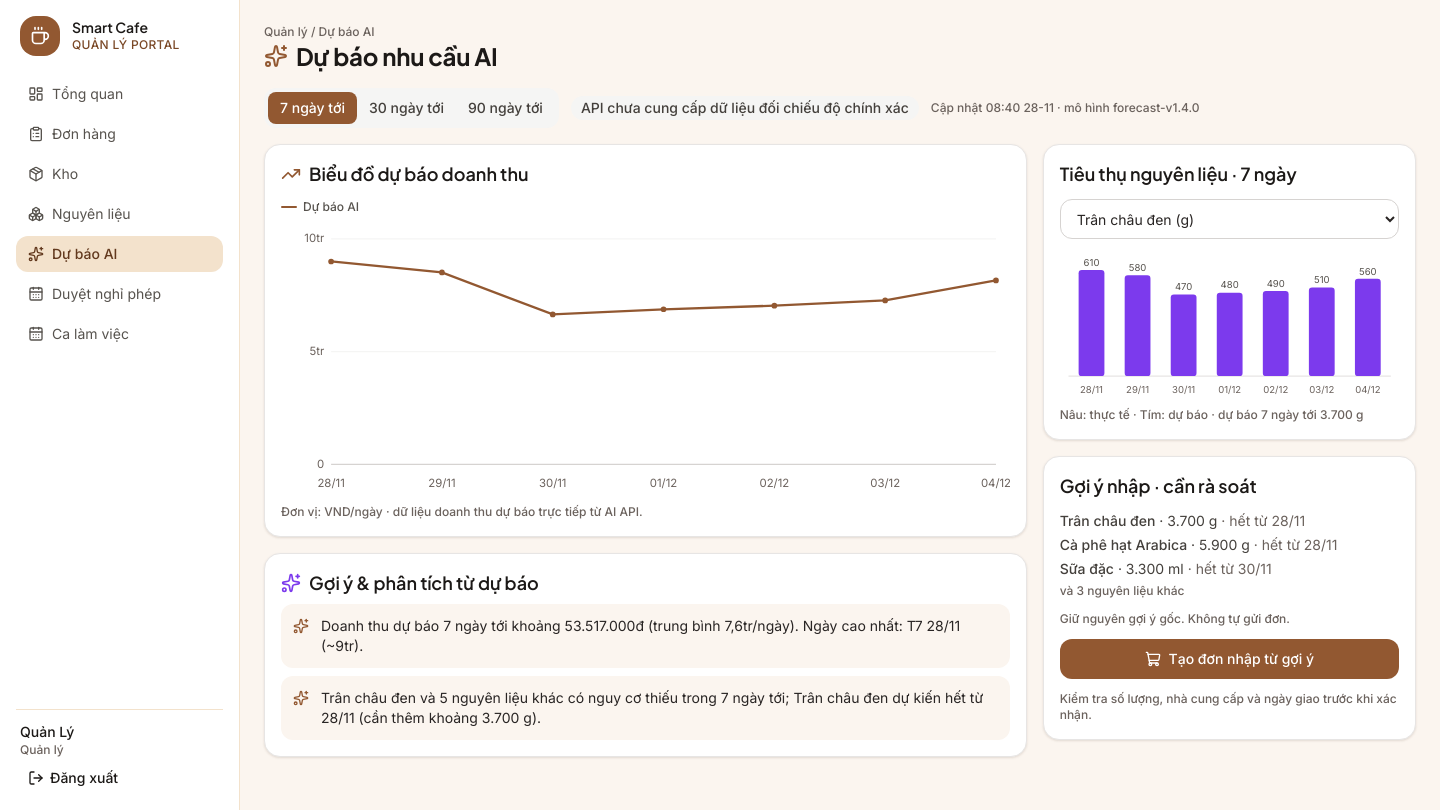
Test case: /manager/forecast › "Tạo đơn nhập từ gợi ý" mở bản nháp chỉ-đọc, liệt kê nguyên liệu thiếu, không gọi API ghi
Click the button "Tạo đơn nhập từ gợi ý".
click(1229, 660)  # box top-left (1060, 640), bottom-right (1399, 680)
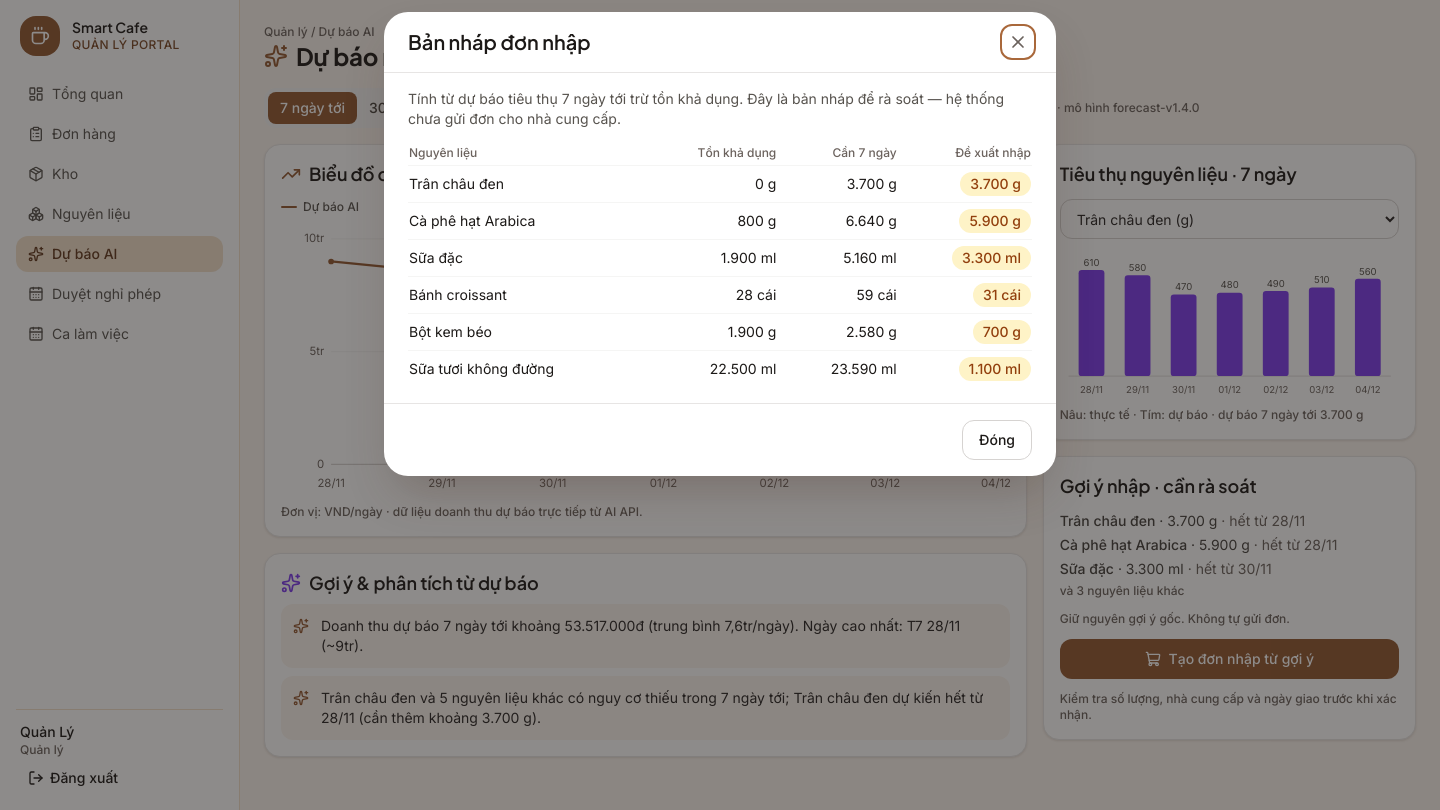
Now the text "Trân châu đen" is shown, box top-left (408, 166), bottom-right (649, 202)
Now the text "Cà phê hạt Arabica" is shown, box top-left (408, 202), bottom-right (649, 240)
Now the dialog "Bản nháp đơn nhập" shows "chưa gửi đơn cho nhà cung cấp", box top-left (408, 90), bottom-right (1004, 127)
